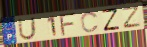1: (46, 15, 58, 37)
C: (80, 10, 100, 33)
F: (59, 11, 79, 37)
U: (18, 16, 38, 41)
Z: (101, 7, 121, 32), (122, 5, 141, 29)
